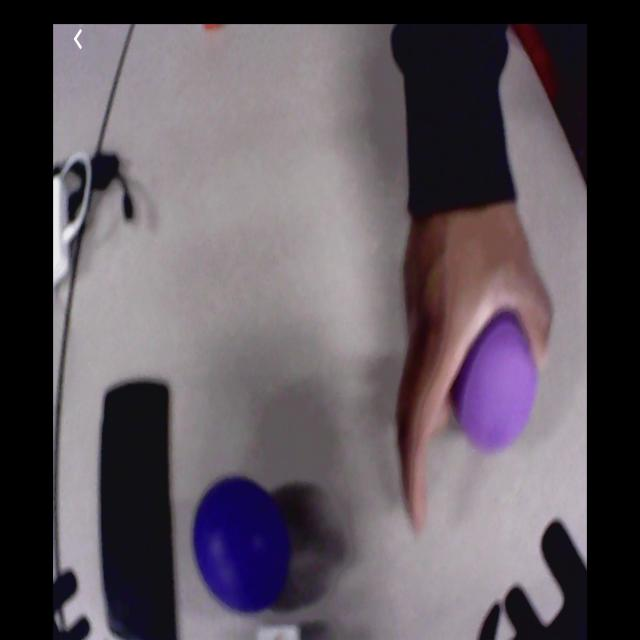ball: (452, 314, 542, 452), (195, 478, 286, 610)
